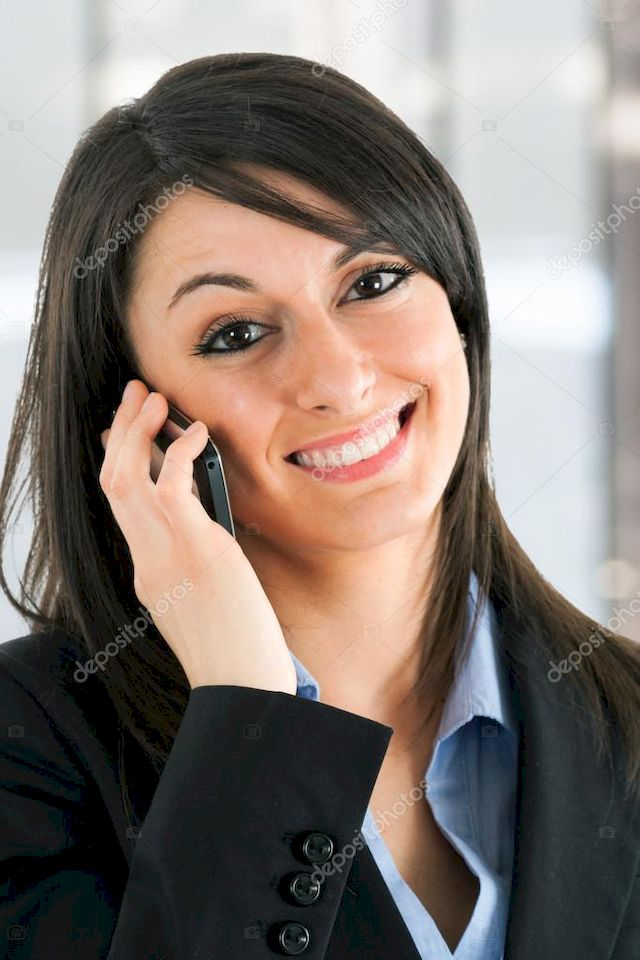phone: (91, 380, 256, 550)
talk: (85, 207, 465, 626)
